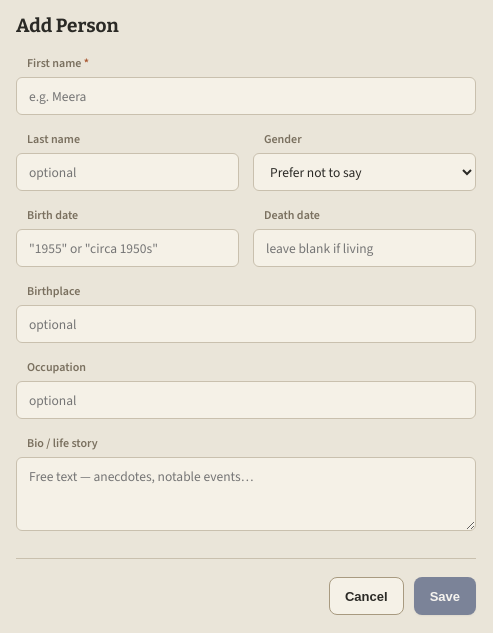
Test case: PersonForm › Save is disabled until a first name is entered
Check: the button "Save" is disabled, box [414,577,476,615]
In the field labelled "First name *": (246, 96) [16,77,476,115], type "Anna"
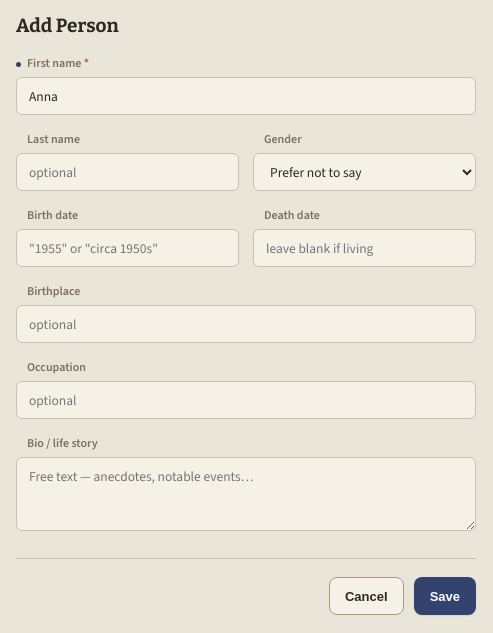
Check: the button "Save" is enabled, box [414,577,476,615]
